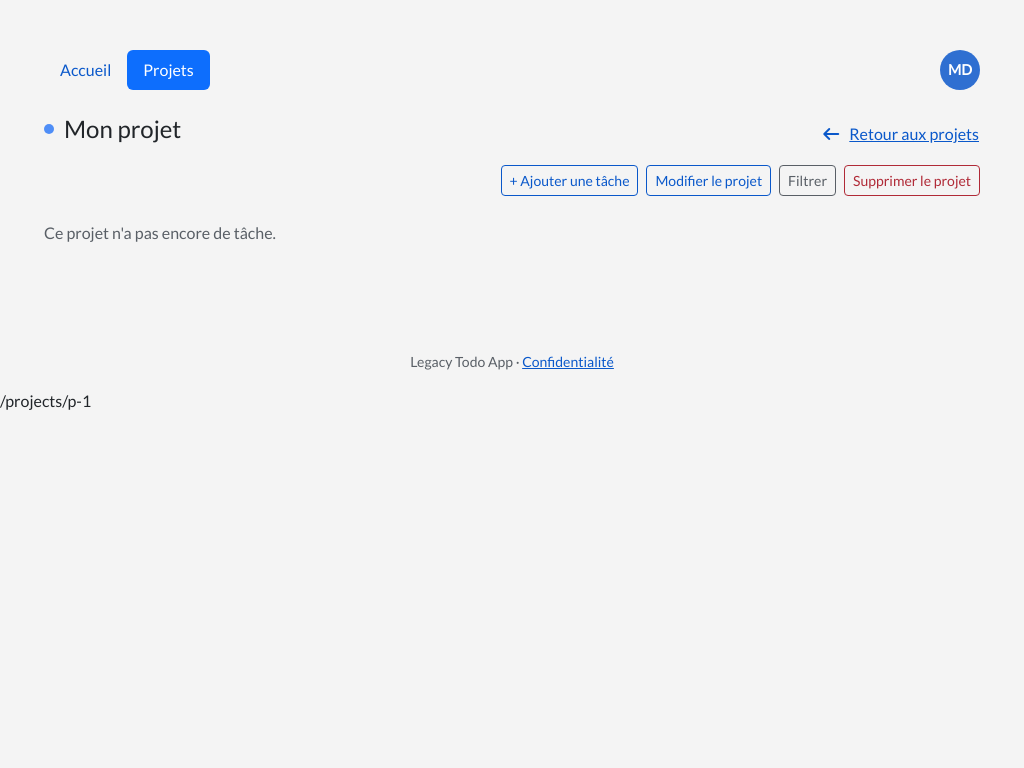
creating a task › a rejected creation adds no task and reports the API error
The image size is (1024, 768).
Expected: the text "Ce projet n'a pas encore de tâche." is shown, left=44, top=223, right=276, bottom=242
Click the button "+ Ajouter une tâche". click: (570, 180)
box: left=500, top=165, right=638, bottom=196
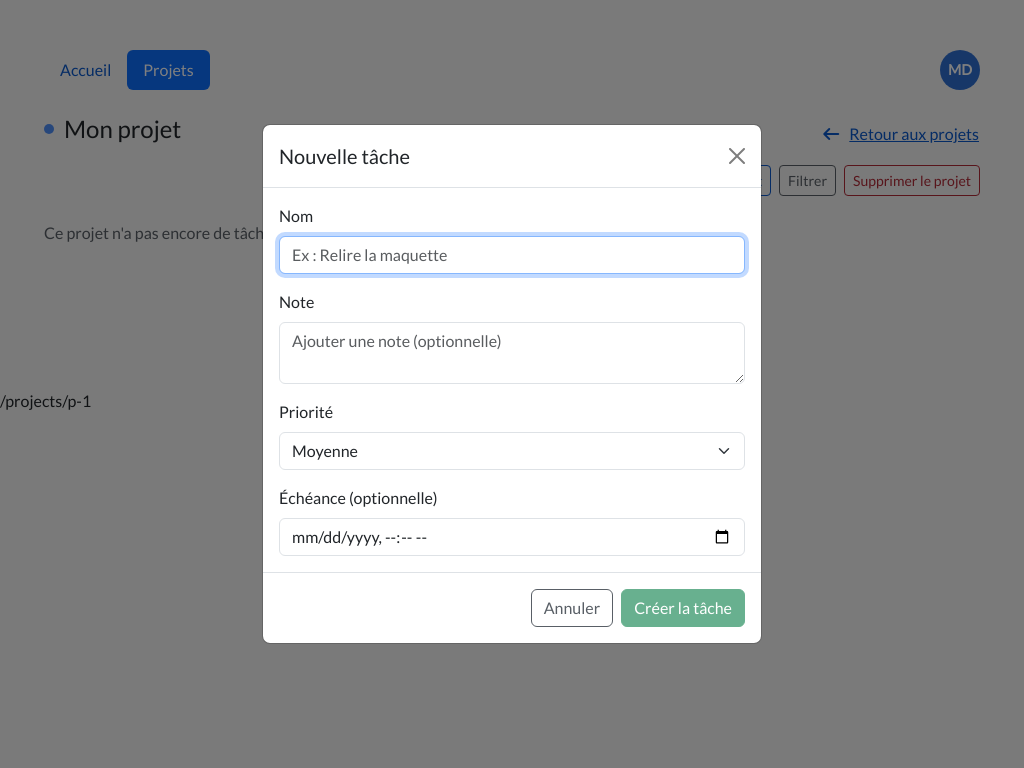
Type "Rejected" into the field labelled "Nom". click: (512, 255)
box: left=279, top=236, right=745, bottom=274
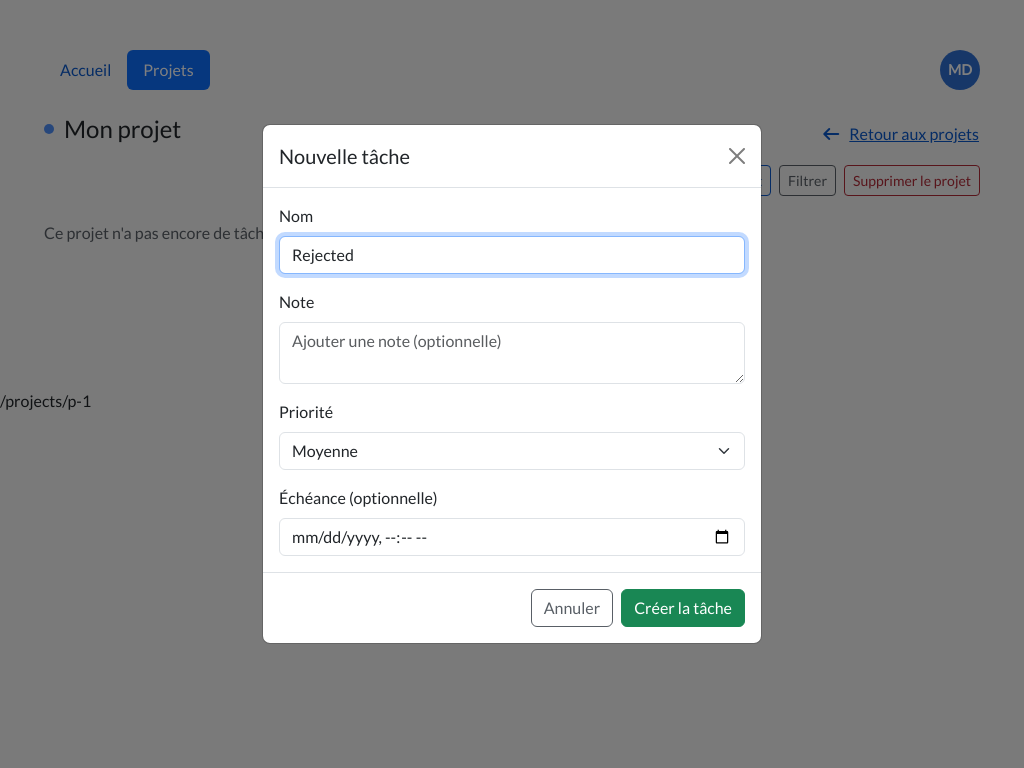
Click the button "Créer la tâche". click: (683, 608)
box: left=621, top=589, right=745, bottom=627
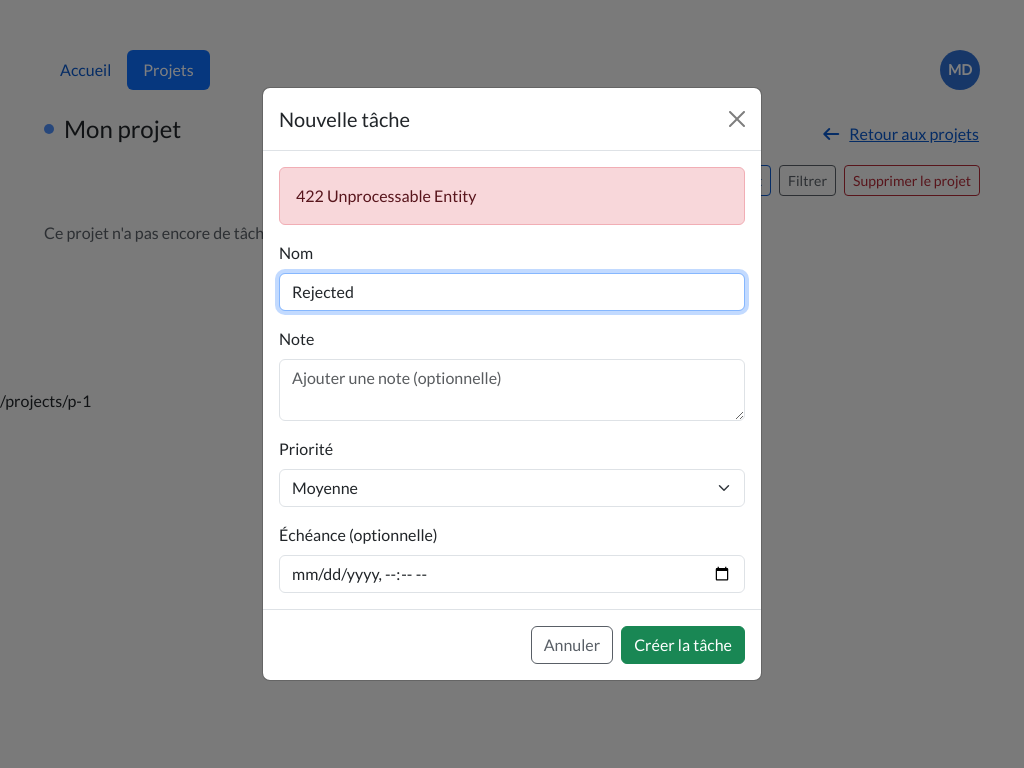
Expected: the text "Ce projet n'a pas encore de tâche." is shown, left=44, top=223, right=276, bottom=242
Now the text "422 Unprocessable Entity" is shown, box left=279, top=167, right=745, bottom=225
